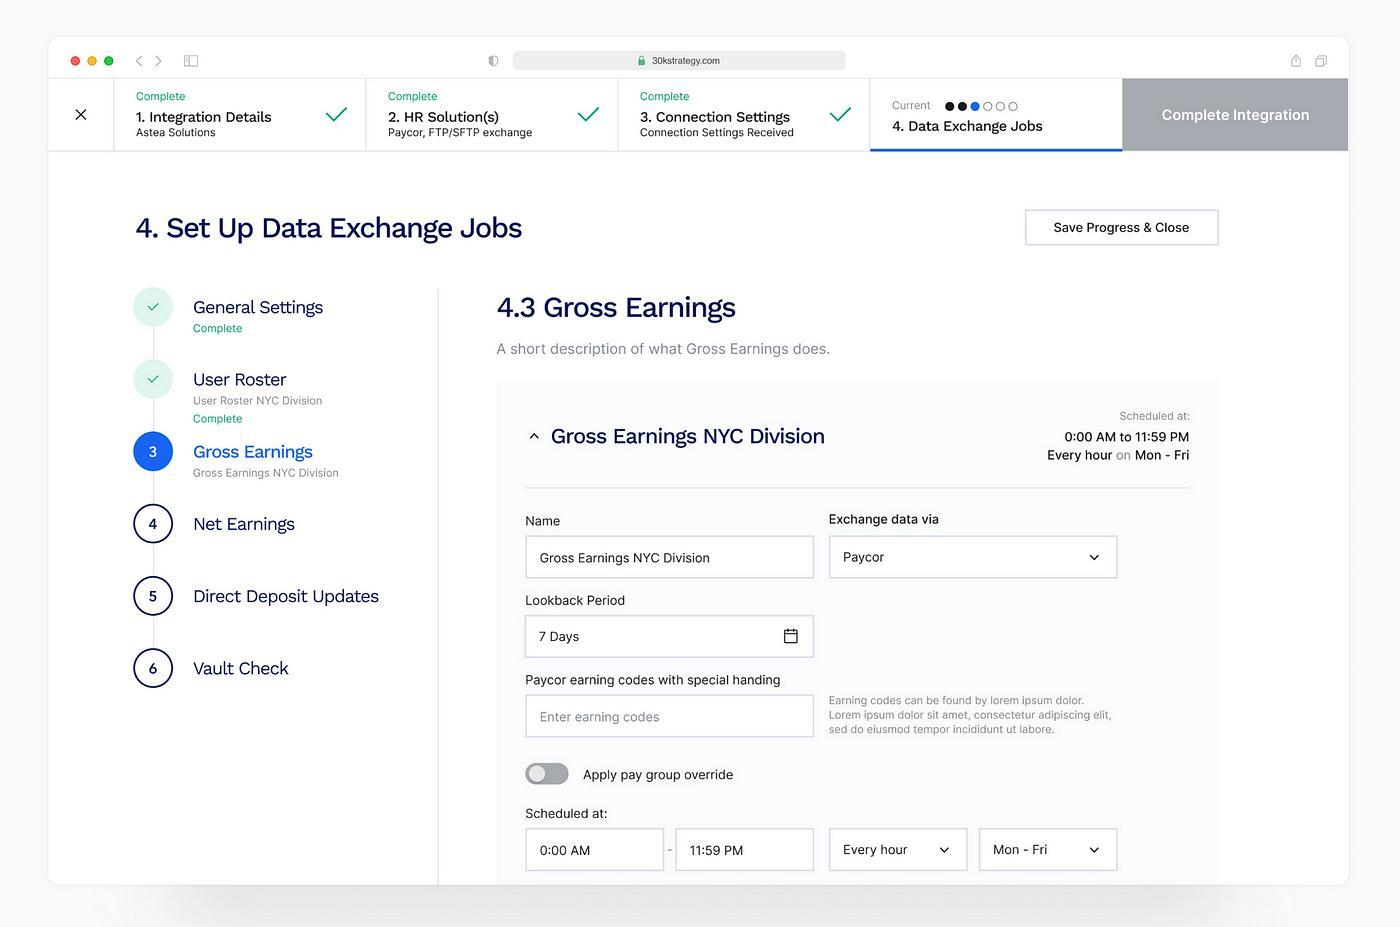button: (1122, 80, 1348, 151), (1027, 211, 1220, 246)
dropdown: (830, 537, 1119, 579), (979, 828, 1118, 871), (830, 830, 969, 872)
icon: (75, 106, 89, 125)
input: (525, 617, 815, 659), (526, 537, 815, 579), (527, 696, 815, 738), (527, 828, 665, 873), (676, 829, 815, 872)
label: (133, 215, 528, 244), (498, 293, 737, 325), (548, 425, 827, 450), (638, 111, 798, 142), (386, 111, 537, 141), (527, 674, 784, 689), (135, 111, 277, 139), (193, 589, 383, 609), (887, 118, 1045, 136), (193, 298, 327, 318), (193, 443, 315, 463), (190, 514, 297, 537), (580, 770, 735, 784), (191, 659, 293, 680), (826, 511, 943, 529), (193, 371, 288, 391), (525, 595, 628, 611), (522, 513, 566, 530)
switch: (525, 762, 570, 787)
